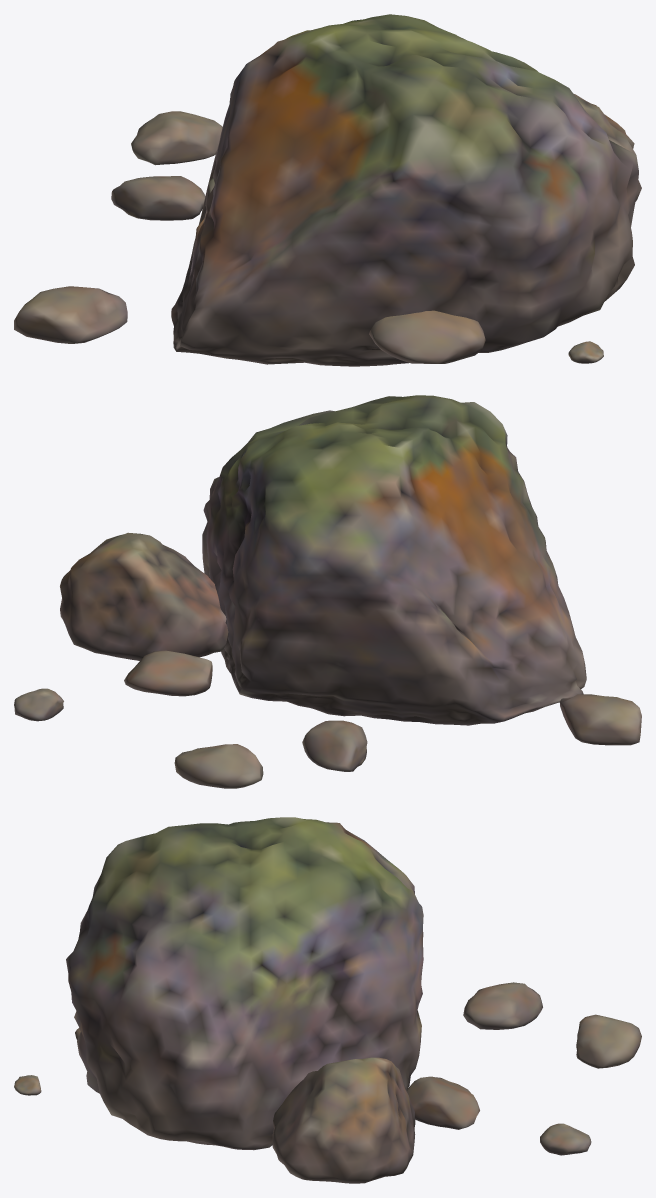
File: tas_orta.glb
The picture shows the model from 3 angles, top to bottom: view 1: azimuth 30°, elevation 25°; view 2: azimuth 150°, elevation 25°; view 3: azimuth 270°, elevation 25°; orthographic projection. The views are drawn at different scales.
Visible parts, largest first — view 1: tas_orta_LOD0; view 2: tas_orta_LOD0; view 3: tas_orta_LOD0.
Boxes of the visible parts, x1,y1,x2,y2 form: tas_orta_LOD0: [14, 14, 641, 366]; tas_orta_LOD0: [14, 395, 641, 788]; tas_orta_LOD0: [14, 817, 641, 1183].
Size of what is drawn, in the model's own units: 2.72 by 1.19 by 2.61.
